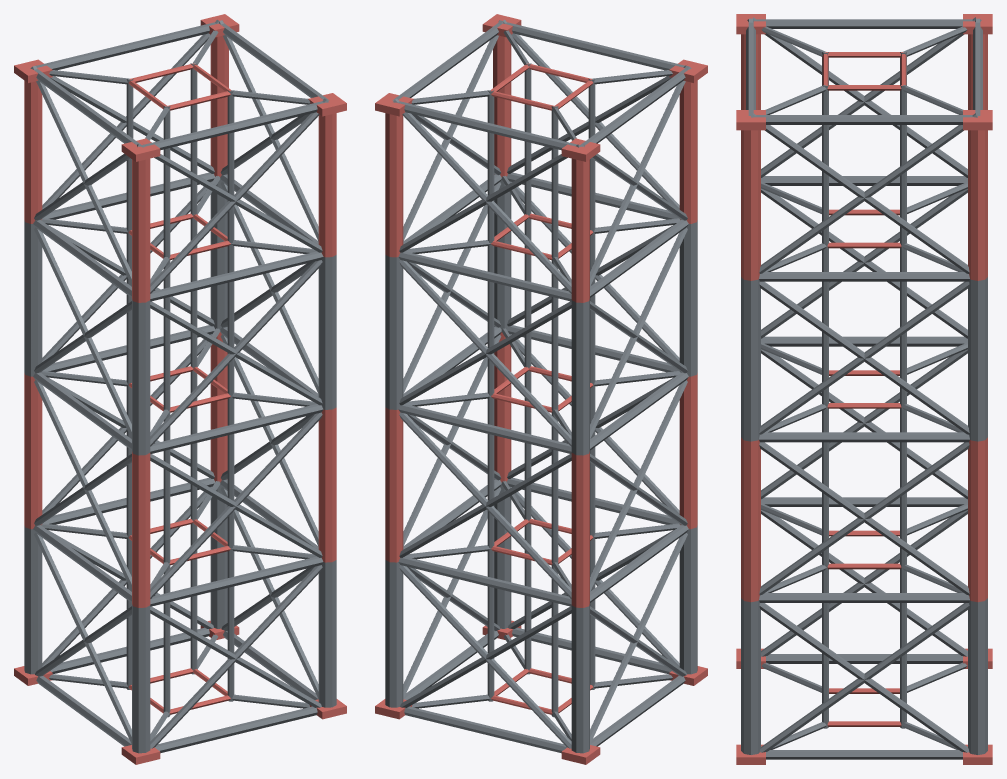
File: st_01_tower_base_10m.glb
3 renders of one model, left to right at view 1: azimuth 30°, elevation 25°; view 2: azimuth 150°, elevation 25°; view 3: azimuth 270°, elevation 25°, orthographic. The views are drawn at different scales.
Parts seen in each view (by area): view 1: TowerSection_10m_Modular; view 2: TowerSection_10m_Modular; view 3: TowerSection_10m_Modular.
Boxes of the visible parts, left/top/right/bottom form: TowerSection_10m_Modular: left=14, top=14, right=346, bottom=764; TowerSection_10m_Modular: left=375, top=14, right=707, bottom=764; TowerSection_10m_Modular: left=736, top=14, right=992, bottom=764.
Bounding box in the file's own units: 3.62 × 10.08 × 3.62.
